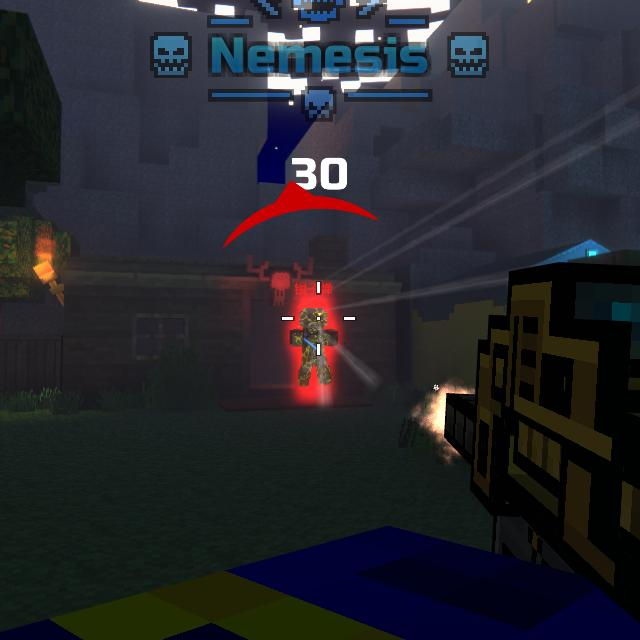Enemy: (291, 307, 341, 387)
